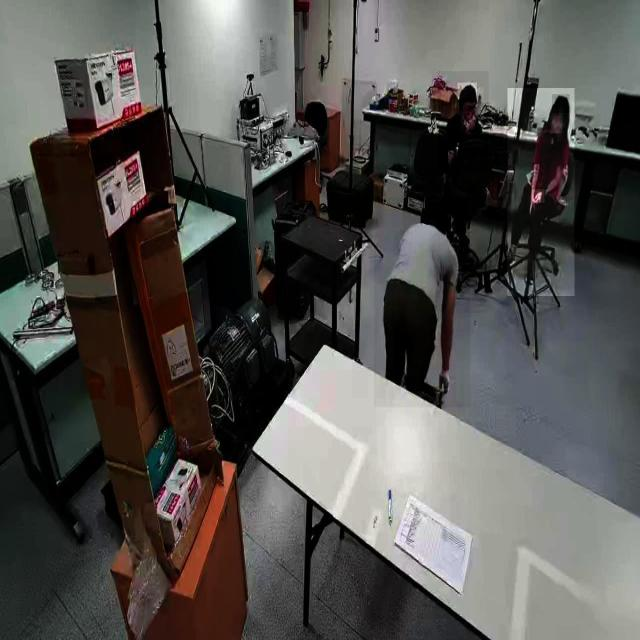face_nomask: (551, 116, 563, 134)
hand_noglove: (467, 114, 477, 130), (533, 190, 545, 203), (528, 196, 536, 215)
head_nohelmet: (425, 202, 447, 225), (458, 82, 478, 100), (552, 94, 570, 114)
person: (374, 197, 470, 408), (507, 88, 575, 297), (437, 71, 489, 174)
